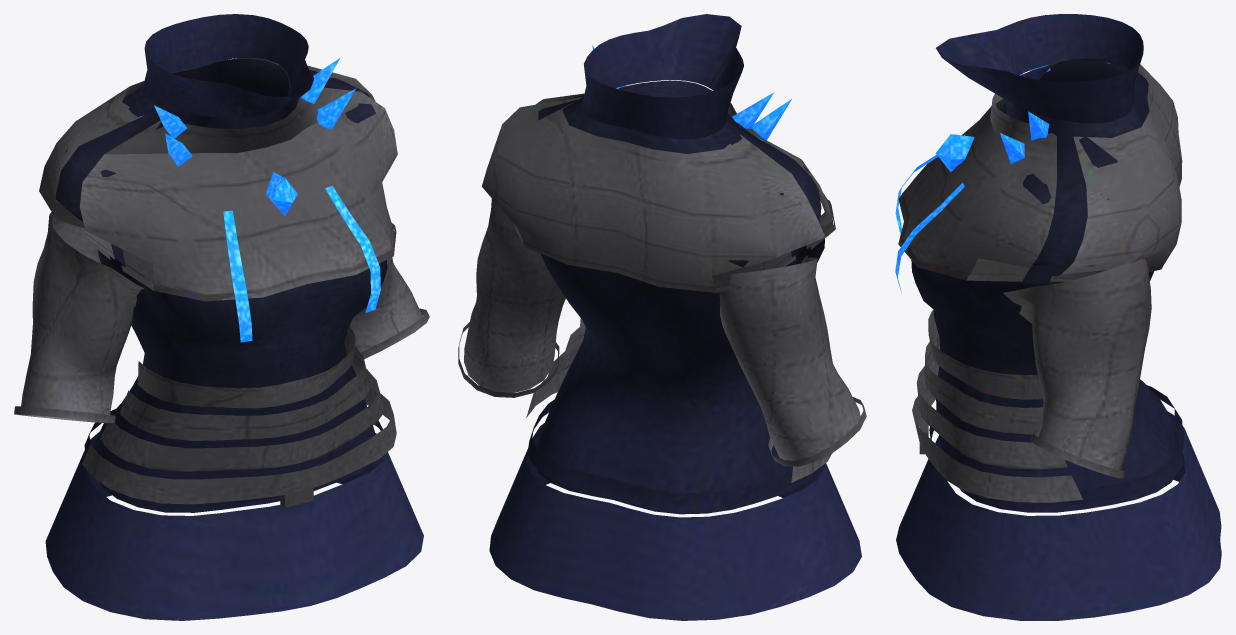
File: Peitoral_de_Cristal_nivel75.glb
3 renders of one model, left to right at view 1: azimuth 30°, elevation 25°; view 2: azimuth 150°, elevation 25°; view 3: azimuth 270°, elevation 25°, orthographic.
Visible parts, largest first — view 1: peitoral_de_cristal_nivel75; view 2: peitoral_de_cristal_nivel75; view 3: peitoral_de_cristal_nivel75.
Boxes of the visible parts, x1,y1,x2,y2 form: peitoral_de_cristal_nivel75: (14, 14, 429, 620); peitoral_de_cristal_nivel75: (458, 14, 866, 620); peitoral_de_cristal_nivel75: (895, 14, 1221, 620).
Bounding box in the file's own units: 0.6157 × 0.7176 × 0.4309.
Materials: 1 (1 with a texture image).
